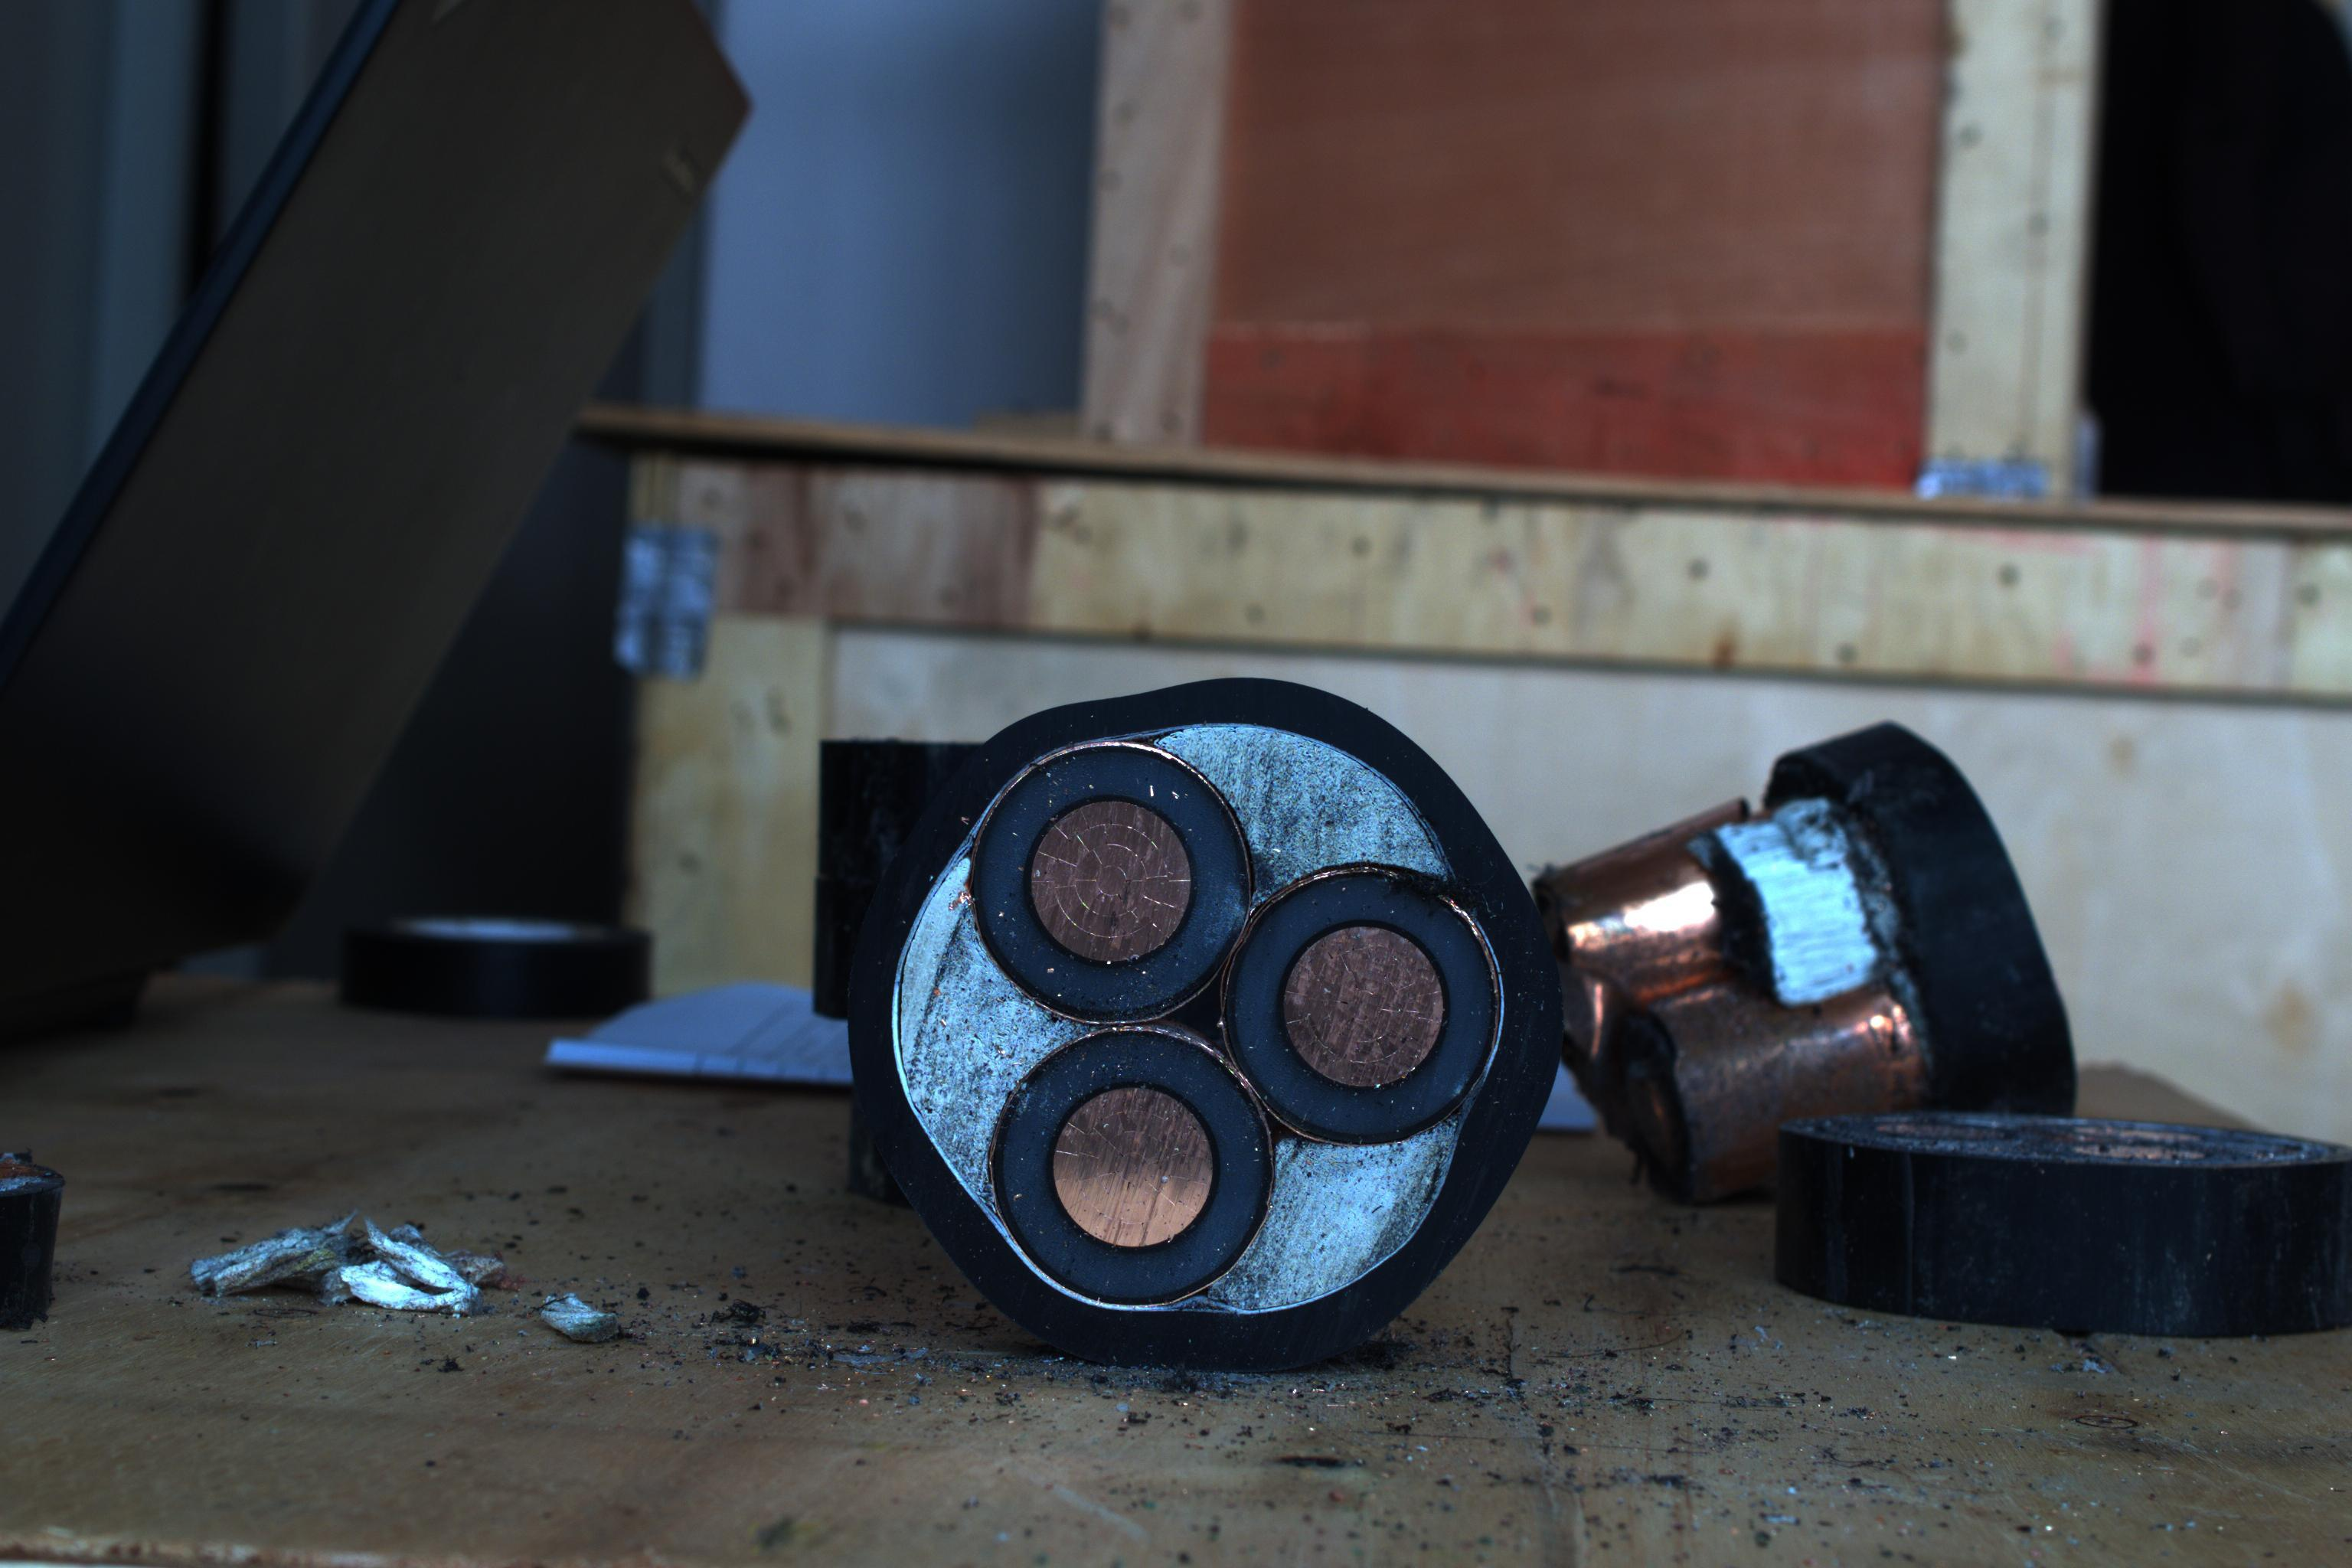ZA_YJV_8.7_10kV_3x240: (889, 688, 1566, 1360)
